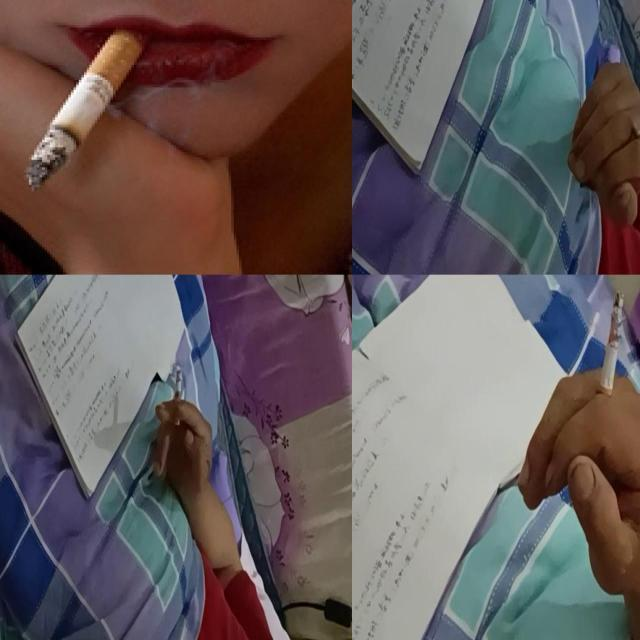smoking: (26, 8, 154, 190), (588, 291, 626, 431), (628, 87, 640, 147), (174, 370, 182, 426)
